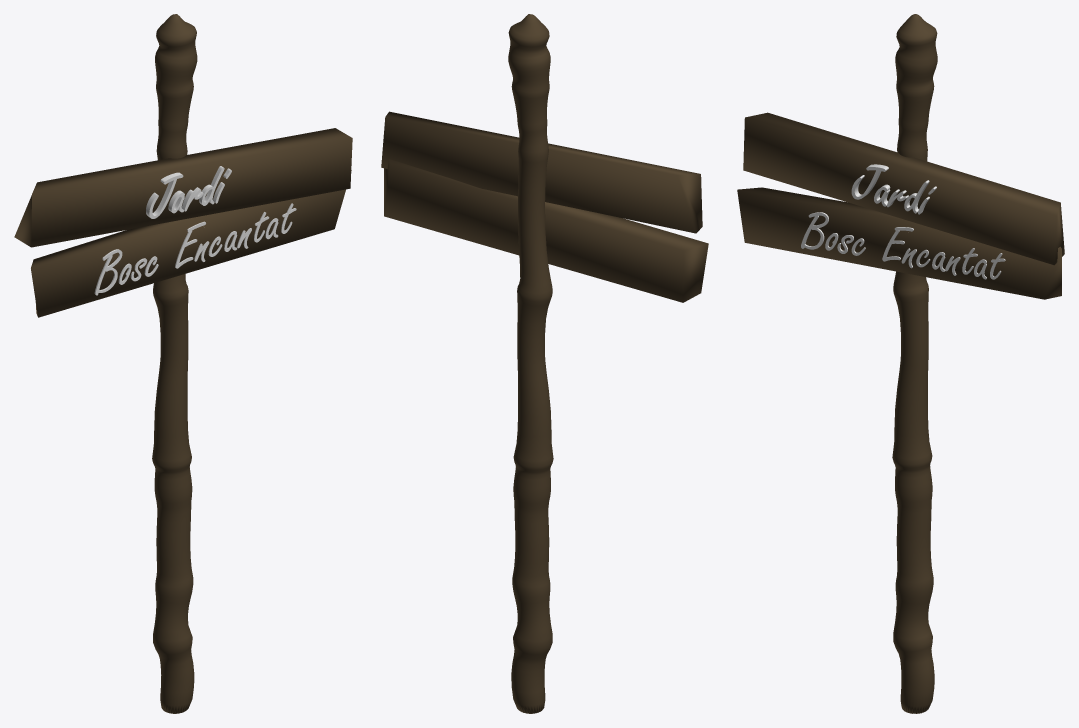
File: cartel.fbx
3 renders of one model, left to right at view 1: azimuth 30°, elevation 25°; view 2: azimuth 150°, elevation 25°; view 3: azimuth 330°, elevation 25°, orthographic.
Visible parts, largest first — view 1: Cube.002, Cylinder, Text.001; view 2: Cube.002, Cylinder; view 3: Cube.002, Cylinder, Text.001.
Part boxes in pixels (box(x1,y1,x2,y2)): Cube.002: box(14, 128, 352, 317); Cylinder: box(152, 14, 197, 713); Text.001: box(94, 166, 296, 295); Cube.002: box(381, 111, 708, 302); Cylinder: box(508, 14, 553, 713); Cube.002: box(737, 112, 1064, 299); Cylinder: box(892, 14, 937, 713); Text.001: box(801, 164, 1005, 279).
Bounding box in the file's own units: 216 × 445 × 34.43.
